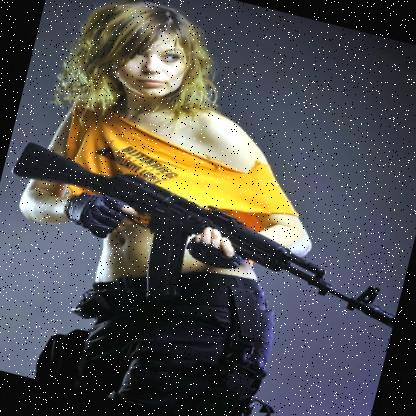rifle: (0, 113, 416, 365)
